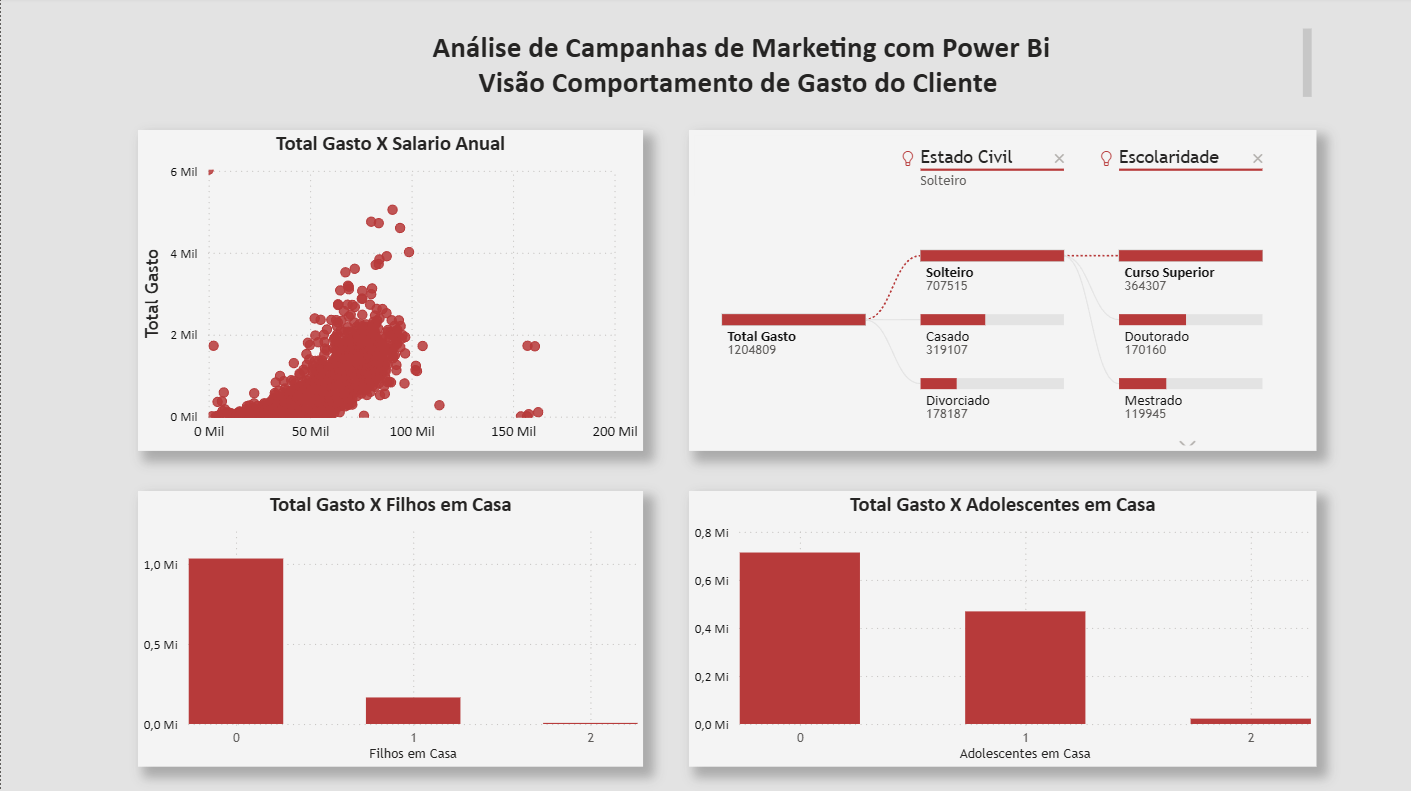

Layout of this report page (visuals, bound fields, positions):
{"tool":"powerbi","page":{"name":"Visão Comportamento","canvas":[1280,720],"ordinal":1},"visuals":[{"type":"scatterChart","title":"Total Gasto X Salario Anual","fields":{"X":["DadosMarketing.Salario Anual"],"Y":["DadosMarketing.Total Gasto"]},"box":[124.7,121,458.1,290.9],"z":0},{"type":"clusteredColumnChart","title":"Total Gasto X Filhos em Casa","fields":{"Y":["DadosMarketing.Total Gasto"],"Category":["DadosMarketing.Filhos em Casa"]},"box":[124.7,447.9,458.1,250.3],"z":1000},{"type":"textbox","box":[150.5,24,1042.7,73],"z":2000},{"type":"clusteredColumnChart","title":"Total Gasto X Adolescentes em Casa","fields":{"Y":["DadosMarketing.Total Gasto"],"Category":["DadosMarketing.Adolescentes em Casa"]},"box":[624.3,447.9,568.9,250.3],"z":3000},{"type":"decompositionTreeVisual","fields":{"Analyze":["DadosMarketing.Total Gasto"],"ExplainBy":["DadosMarketing.Estado Civil","DadosMarketing.Escolaridade"]},"box":[624.3,121,568.9,290.9],"z":4000}]}

Visuals, with their boxes in screenshot pixels (x1, y1, x2, y2), scaled from the page's 1280x720 canvas onto the 1411x791 screenshot:
"Total Gasto X Salario Anual" scatterChart: [x1=137, y1=133, x2=642, y2=453]
"Total Gasto X Filhos em Casa" clusteredColumnChart: [x1=137, y1=492, x2=642, y2=767]
textbox: [x1=166, y1=26, x2=1315, y2=107]
"Total Gasto X Adolescentes em Casa" clusteredColumnChart: [x1=688, y1=492, x2=1315, y2=767]
decompositionTreeVisual - DadosMarketing.Total Gasto x DadosMarketing.Estado Civil: [x1=688, y1=133, x2=1315, y2=453]
